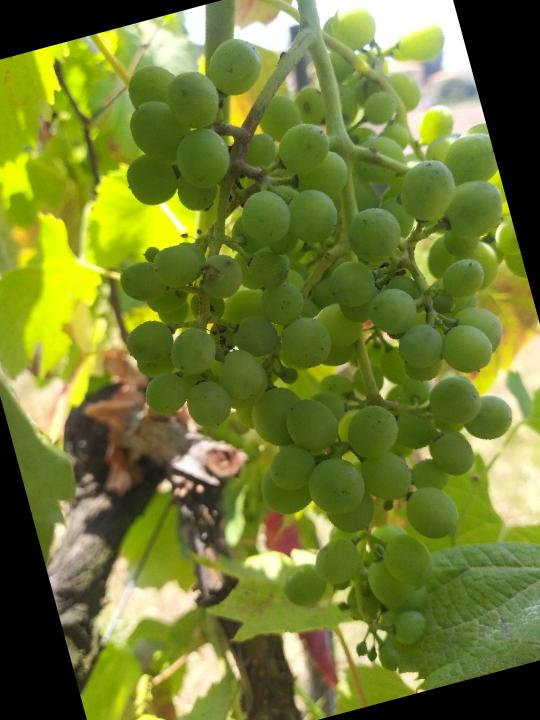grape: (53, 0, 540, 718)
